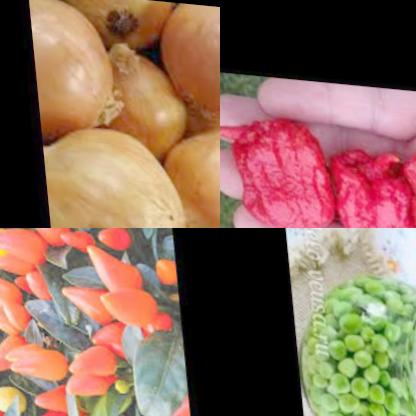hot pepper: (39, 268, 137, 416), (220, 108, 338, 228), (314, 137, 416, 228), (0, 257, 53, 383), (0, 228, 83, 301), (72, 237, 144, 291), (9, 380, 100, 416), (92, 274, 155, 318), (133, 370, 183, 416), (139, 243, 171, 283), (83, 228, 127, 240)
onion: (28, 0, 220, 228)
peas: (302, 272, 416, 416)
